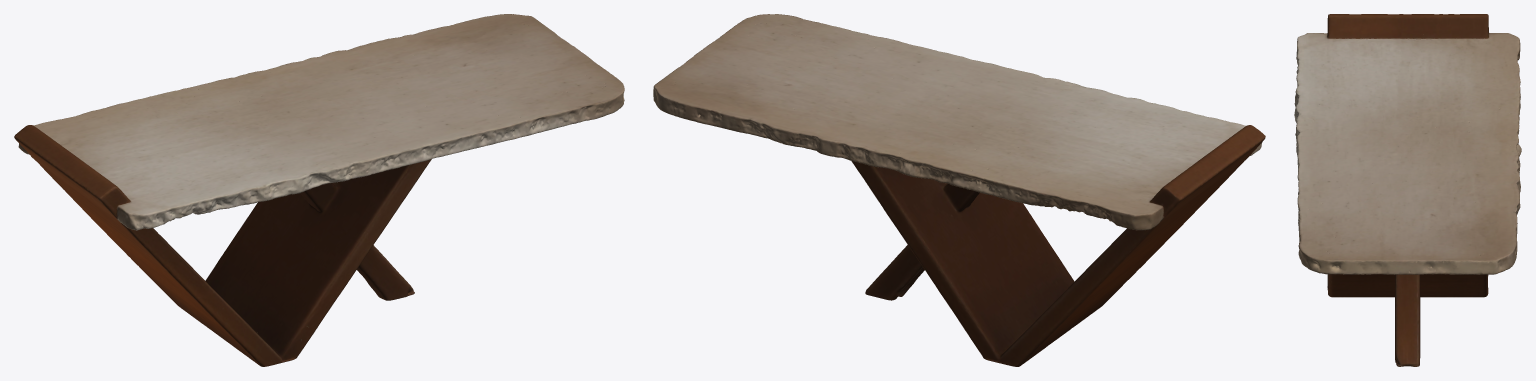
Rendered from 28_几何木底石材茶几.glb.
3 renders of one model, left to right at view 1: azimuth 30°, elevation 25°; view 2: azimuth 150°, elevation 25°; view 3: azimuth 270°, elevation 25°, orthographic. The views are drawn at different scales.
Parts seen in each view (by area): view 1: world; view 2: world; view 3: world.
Part boxes in pixels (box(x1,y1,x2,y2)): world: box(14, 14, 624, 366); world: box(653, 14, 1265, 366); world: box(1294, 14, 1521, 366).
Bounding box in the file's own units: 0.998 × 0.3938 × 0.4058.
Materials: 1 (1 with a texture image).
